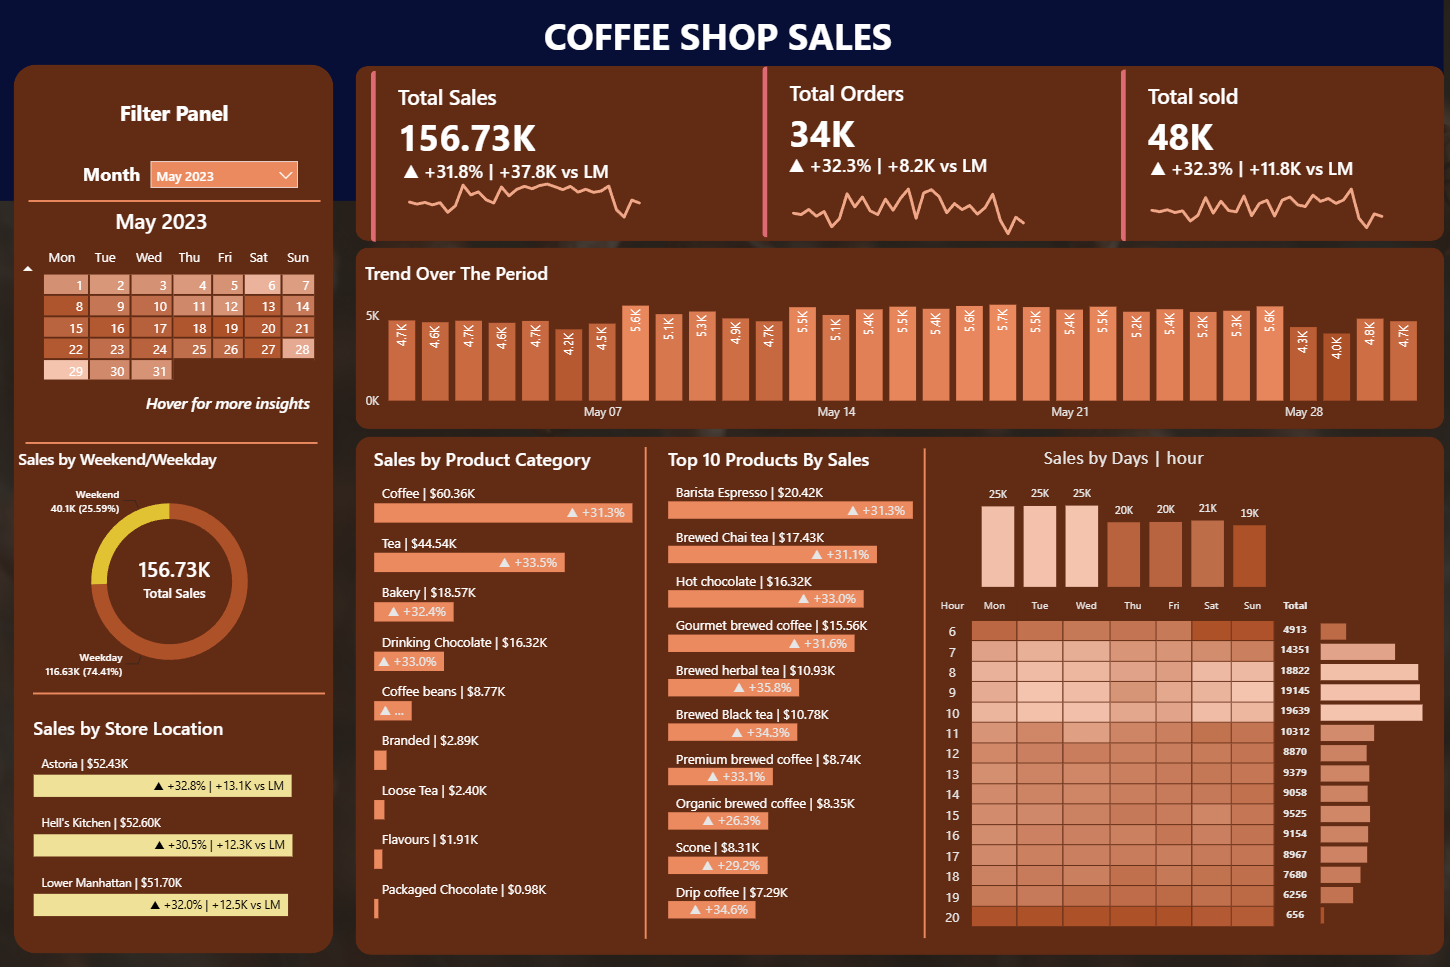

Layout of this report page (visuals, bound fields, positions):
{"tool":"powerbi","page":{"name":"dashbord","canvas":[1500,1000],"ordinal":0},"visuals":[{"type":"shape","box":[0,0,1488.3,206.7],"z":0},{"type":"shape","box":[17.7,66.3,329.2,914.6],"z":1000},{"type":"shape","box":[368.3,68.3,1120,180],"z":2000},{"type":"cardVisual","fields":{"Data":["Measure.Total Sales"]},"box":[366.7,55,333.3,210],"z":3000},{"type":"slicer","fields":{"Values":["DimDate.Month"]},"box":[148.9,155.6,171.1,48.9],"z":4000},{"type":"cardVisual","fields":{"Data":["Measure.MoM growth"]},"box":[388.3,146.7,345,56.7],"z":5000},{"type":"lineChart","fields":{"Y":["Measure.Total Sales"],"Category":["DimDate.Date.Variation.Date Hierarchy.Year","DimDate.Date.Variation.Date Hierarchy.Quarter","DimDate.Date.Variation.Date Hierarchy.Month","DimDate.Date.Variation.Date Hierarchy.Day"]},"box":[408.3,168.3,266.7,80],"z":6000},{"type":"cardVisual","fields":{"Data":["Measure.Total Orders"]},"box":[770,51.7,335,210],"z":7000},{"type":"cardVisual","fields":{"Data":["Measure.Total sold"]},"box":[1138.3,53.3,335,211.7],"z":8000},{"type":"cardVisual","fields":{"Data":["Measure.MoM growth sorder"]},"box":[785.2,140,345.5,56.3],"z":9000},{"type":"lineChart","fields":{"Y":["Measure.Total Orders"],"Category":["DimDate.Date.Variation.Date Hierarchy.Year","DimDate.Date.Variation.Date Hierarchy.Quarter","DimDate.Date.Variation.Date Hierarchy.Month","DimDate.Date.Variation.Date Hierarchy.Day"]},"box":[804,168.2,266.6,78.9],"z":10000},{"type":"cardVisual","fields":{"Data":["Measure.MoM growth qty sold"]},"box":[1156.7,143.3,306.7,56.7],"z":11000},{"type":"lineChart","fields":{"Y":["Measure.Total sold"],"Category":["DimDate.Date.Variation.Date Hierarchy.Year","DimDate.Date.Variation.Date Hierarchy.Quarter","DimDate.Date.Variation.Date Hierarchy.Month","DimDate.Date.Variation.Date Hierarchy.Day"]},"box":[1173.3,166.7,266.7,78.3],"z":12000},{"type":"pivotTable","fields":{"Columns":["DimDate.Day name"],"Rows":["DimDate.Week number"],"Values":["Sum(DimDate.Day number)"]},"box":[17.2,248.4,315.5,169],"z":13000},{"type":"cardVisual","fields":{"Data":["Min(DimDate.Month)"]},"box":[92.3,190.2,165.2,71.4],"z":14000},{"type":"textbox","box":[148.6,398.7,184,39.4],"z":15000},{"type":"shape","box":[32.2,184.6,300.4,43.2],"z":16000},{"type":"donutChart","title":"Sales by Weekend/Weekday","fields":{"Category":["DimDate.Weekend/Weekday"],"Y":["Measure.Total Sales"]},"box":[17.7,461.7,320.3,251.8],"z":17000},{"type":"cardVisual","fields":{"Data":["Measure.Total Sales"]},"box":[106,550.1,152.4,90.6],"z":18000},{"type":"shape","box":[28.7,433,300.4,44.2],"z":19000},{"type":"shape","box":[37.6,691.5,300.4,44.2],"z":20000},{"type":"clusteredBarChart","title":"Sales by Store Location","fields":{"Category":["Transactions.store_location"],"Y":["Measure.Placeholder","Measure.Total Sales"]},"box":[33.1,735.7,313.7,214.3],"z":21000},{"type":"shape","box":[368.3,255,1120,186.7],"z":22000},{"type":"columnChart","title":"Trend Over The Period","fields":{"Category":["Transactions.transaction_date"],"Y":["Measure.Total Sales"]},"box":[373.3,268.3,1100,173.3],"z":23000},{"type":"shape","box":[368.3,448.3,1120,533.3],"z":24000},{"type":"clusteredBarChart","title":"Sales by Product Category","fields":{"Y":["Measure.Placeholder","Measure.Total Sales"],"Category":["Transactions.product_category"]},"box":[382.2,459.5,318.1,490.4],"z":25000},{"type":"textbox","box":[545.7,6.6,391,68.5],"z":26000},{"type":"shape","box":[649.5,459.5,35.3,505.9],"z":27000},{"type":"clusteredBarChart","title":"Top 10 Products By Sales","fields":{"Y":["Measure.Placeholder","Measure.Total Sales"],"Category":["Transactions.product_type"]},"box":[684.8,459.5,318.1,490.4],"z":28000},{"type":"shape","box":[936.7,461.7,35.3,503.7],"z":29000},{"type":"textbox","box":[68.9,160,96.7,35.6],"z":30000},{"type":"pivotTable","fields":{"Rows":["Transactions.Hour"],"Columns":["DimDate.Day name"],"Values":["Measure.Total Sales"]},"box":[957.8,610,407.8,355.6],"z":31000},{"type":"barChart","fields":{"Category":["Transactions.Hour"],"Y":["Measure.Total Sales"]},"box":[1356.7,628.3,116.7,326.7],"z":32000},{"type":"columnChart","title":"Sales by Days | hour","fields":{"Category":["DimDate.Day name"],"Y":["Measure.Total Sales"]},"box":[1007.8,458.9,303.3,151.1],"z":33000},{"type":"textbox","box":[80,96.2,203.8,53.8],"z":34000}]}

Visuals, with their boxes in screenshot pixels (x1, y1, x2, y2), scaled from the page's 1500x1000 canvas onto the 1450x967 screenshot:
shape: [0, 0, 1439, 200]
shape: [17, 64, 335, 949]
shape: [356, 66, 1439, 240]
cardVisual - Measure.Total Sales: [354, 53, 677, 256]
slicer - DimDate.Month: [144, 150, 309, 198]
cardVisual - Measure.MoM growth: [375, 142, 709, 197]
lineChart - Measure.Total Sales x DimDate.Date.Variation.Date Hierarchy.Year: [395, 163, 652, 240]
cardVisual - Measure.Total Orders: [744, 50, 1068, 253]
cardVisual - Measure.Total sold: [1100, 52, 1424, 256]
cardVisual - Measure.MoM growth sorder: [759, 135, 1093, 190]
lineChart - Measure.Total Orders x DimDate.Date.Variation.Date Hierarchy.Year: [777, 163, 1035, 239]
cardVisual - Measure.MoM growth qty sold: [1118, 139, 1415, 193]
lineChart - Measure.Total sold x DimDate.Date.Variation.Date Hierarchy.Year: [1134, 161, 1392, 237]
pivotTable - DimDate.Day name x DimDate.Week number: [17, 240, 322, 404]
cardVisual - Min(DimDate.Month): [89, 184, 249, 253]
textbox: [144, 386, 322, 424]
shape: [31, 179, 322, 220]
"Sales by Weekend/Weekday" donutChart: [17, 446, 327, 690]
cardVisual - Measure.Total Sales: [102, 532, 250, 620]
shape: [28, 419, 318, 461]
shape: [36, 669, 327, 711]
"Sales by Store Location" clusteredBarChart: [32, 711, 335, 919]
shape: [356, 247, 1439, 427]
"Trend Over The Period" columnChart: [361, 259, 1424, 427]
shape: [356, 434, 1439, 949]
"Sales by Product Category" clusteredBarChart: [369, 444, 677, 919]
textbox: [528, 6, 905, 73]
shape: [628, 444, 662, 934]
"Top 10 Products By Sales" clusteredBarChart: [662, 444, 969, 919]
shape: [905, 446, 940, 934]
textbox: [67, 155, 160, 189]
pivotTable - Transactions.Hour x DimDate.Day name: [926, 590, 1320, 934]
barChart - Transactions.Hour x Measure.Total Sales: [1311, 608, 1424, 923]
"Sales by Days | hour" columnChart: [974, 444, 1267, 590]
textbox: [77, 93, 274, 145]
